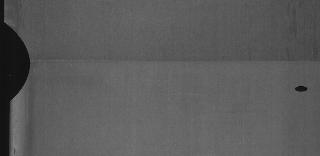punching hole: (292, 82, 310, 94)
welding line: (28, 56, 320, 68)
